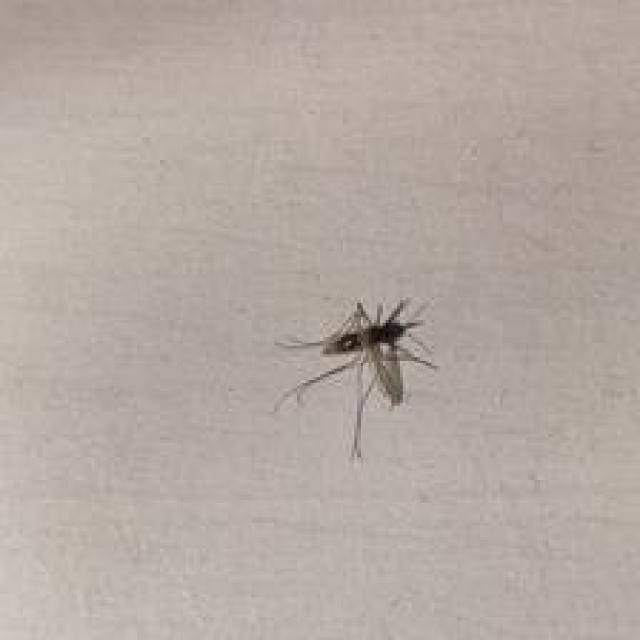Culex: (270, 296, 439, 461)
